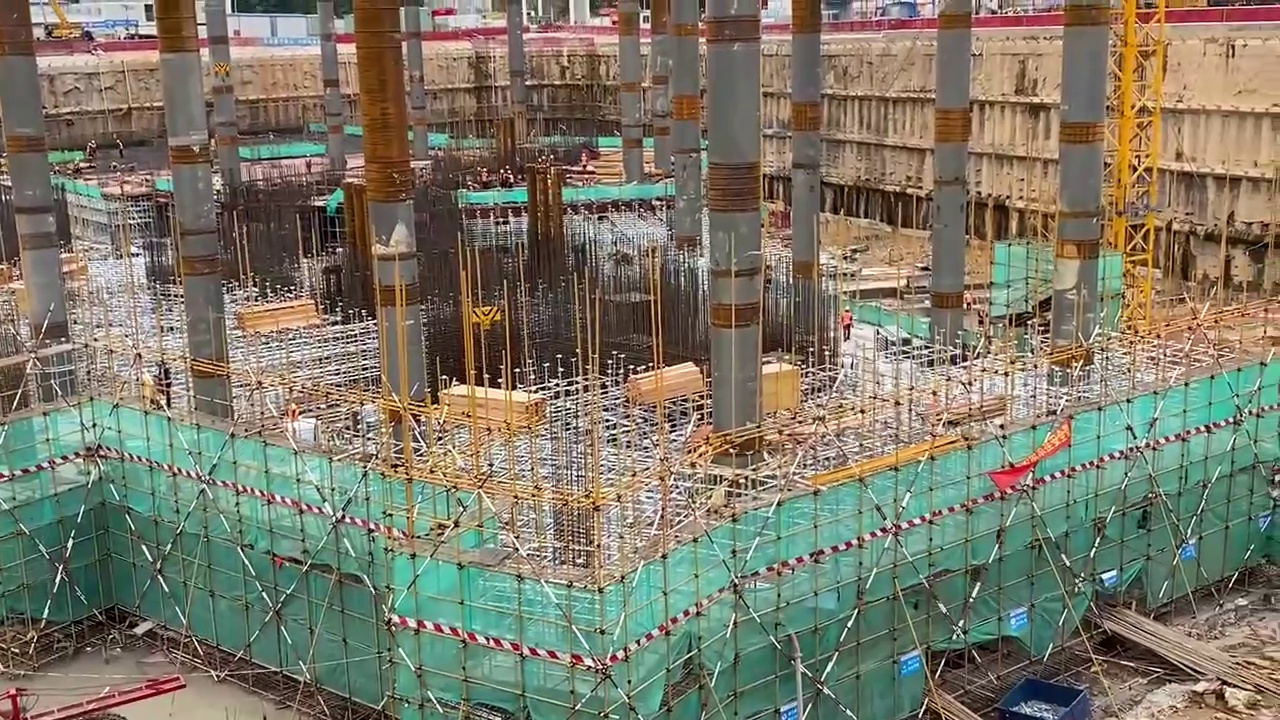hook: (473, 306, 503, 328)
hopper: (991, 677, 1092, 720)
person: (839, 306, 857, 341)
wood: (440, 382, 548, 422), (239, 298, 321, 338), (627, 364, 703, 402)
